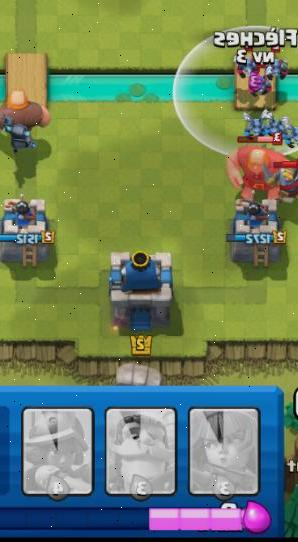enemy_giant: (224, 137, 278, 201)
enemy_knight: (270, 155, 298, 203)
enemy_minions: (238, 60, 276, 100), (265, 52, 291, 80)
player_giant: (0, 87, 54, 145)
player_mini_pekka: (0, 115, 41, 154)
player_minions: (241, 113, 272, 136), (265, 112, 289, 136), (282, 121, 298, 147)
